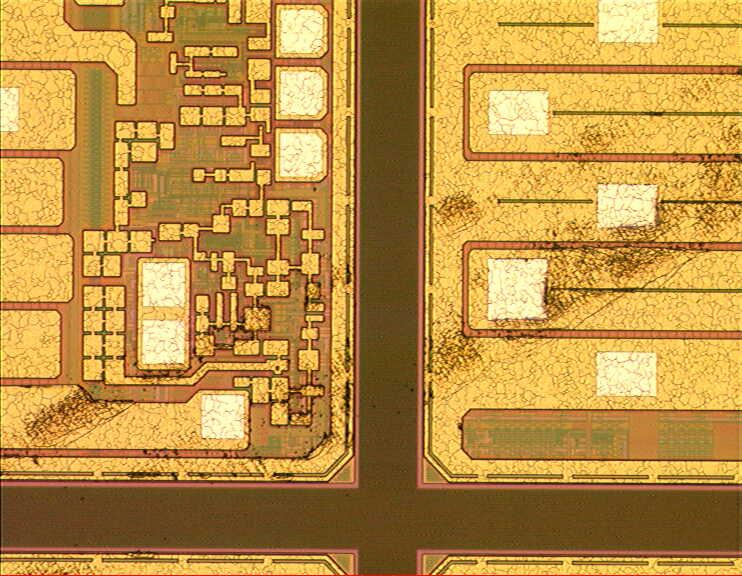SCRATCH: (1, 42, 742, 576)
